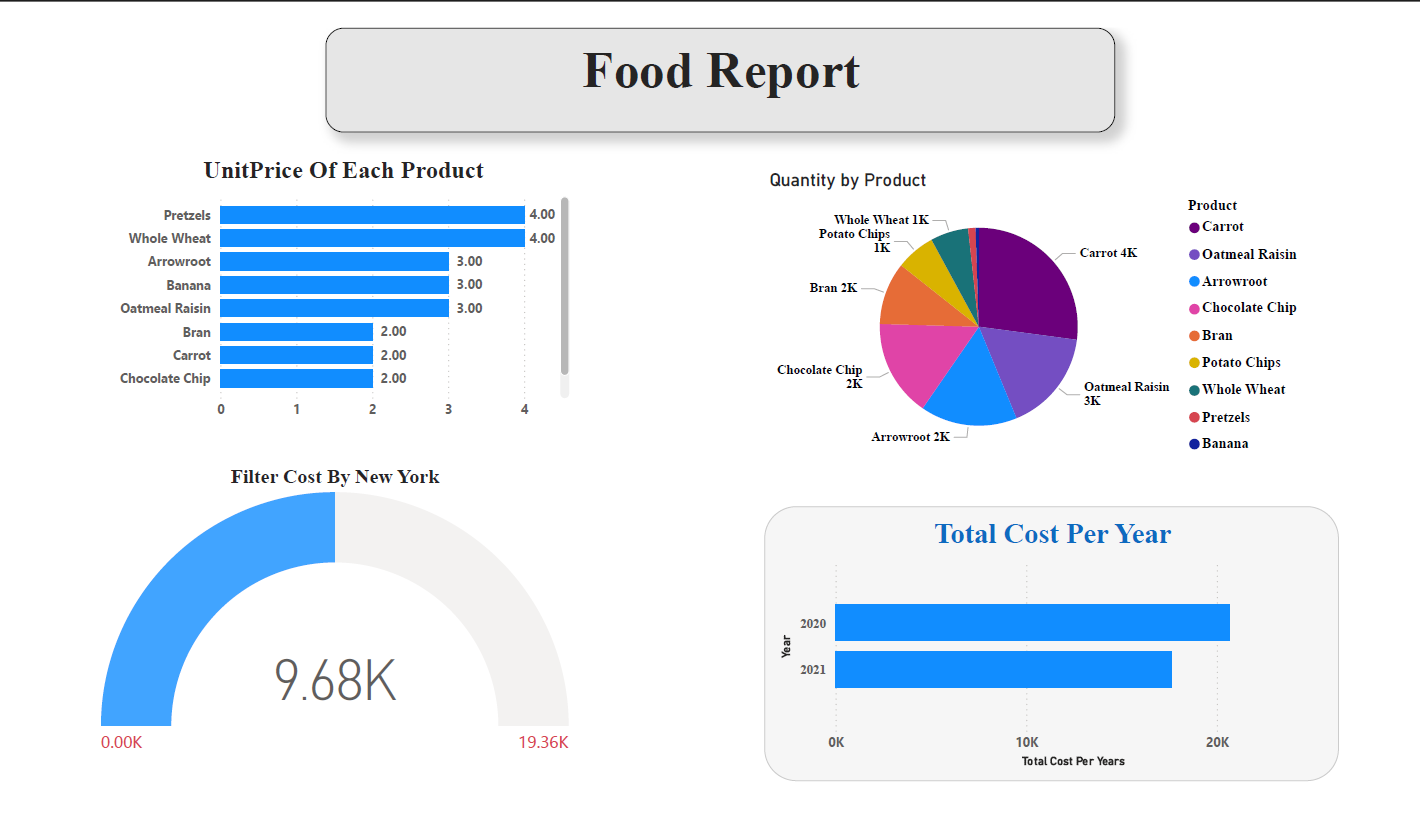

The page's visual inventory and layout, read from the dashboard file:
{"tool":"powerbi","page":{"name":"Task Page 1","canvas":[1280,720],"ordinal":0},"visuals":[{"type":"barChart","title":"UnitPrice Of Each Product","fields":{"Category":["Proudct Info.Product"],"Y":["Avg(Food Data.Proudct Info.UnitPrice)"]},"box":[81,120,432.2,255.1],"z":0},{"type":"pieChart","fields":{"Category":["Food Data.Product"],"Y":["Sum(Food Data.Quantity)"]},"box":[690.3,132.1,511.7,276.1],"z":1000},{"type":"gauge","fields":{"Y":["Food Data.Filter Cost By New York"]},"box":[64.5,408.2,448.7,280.6],"z":2000},{"type":"textbox","box":[280.1,0,737.6,97.6],"z":3000},{"type":"barChart","title":"Total Cost Per Year","fields":{"Y":["Food Data.Total Cost Per Years"],"Category":["Food Data.Year"]},"box":[690.3,447.2,537.2,256.6],"z":4000}]}

Visuals, with their boxes in screenshot pixels (x1, y1, x2, y2), scaled from the page's 1280x720 canvas onto the 1420x822 screenshot:
"UnitPrice Of Each Product" barChart: bbox=[90, 137, 569, 428]
pieChart - Food Data.Product x Sum(Food Data.Quantity): bbox=[766, 151, 1333, 466]
gauge - Food Data.Filter Cost By New York: bbox=[72, 466, 569, 786]
textbox: bbox=[311, 0, 1129, 111]
"Total Cost Per Year" barChart: bbox=[766, 511, 1362, 804]
